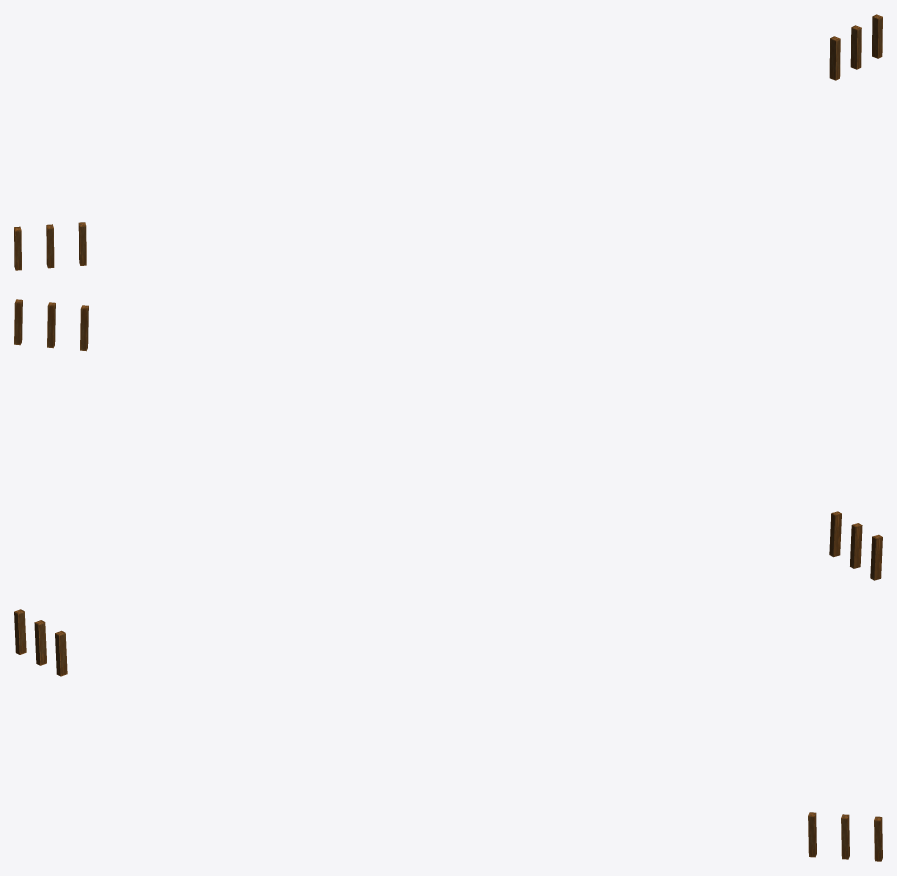
3 views of the same model, one above another, from view 1: azimuth 30°, elevation 25°; view 2: azimuth 150°, elevation 25°; view 3: azimuth 330°, elevation 25° (orthographic). The views are drawn at different scales.
Visible parts, largest first — view 1: Cube.1997; view 2: Cube.1997; view 3: Cube.1997.
Boxes of the visible parts, x1,y1,x2,y2 form: Cube.1997: (14,14,882,270); Cube.1997: (14,299,882,580); Cube.1997: (14,609,882,861).
Size of the model in its own units: 2139 by 130 by 123.
Materials: 1 (1 with a texture image).
